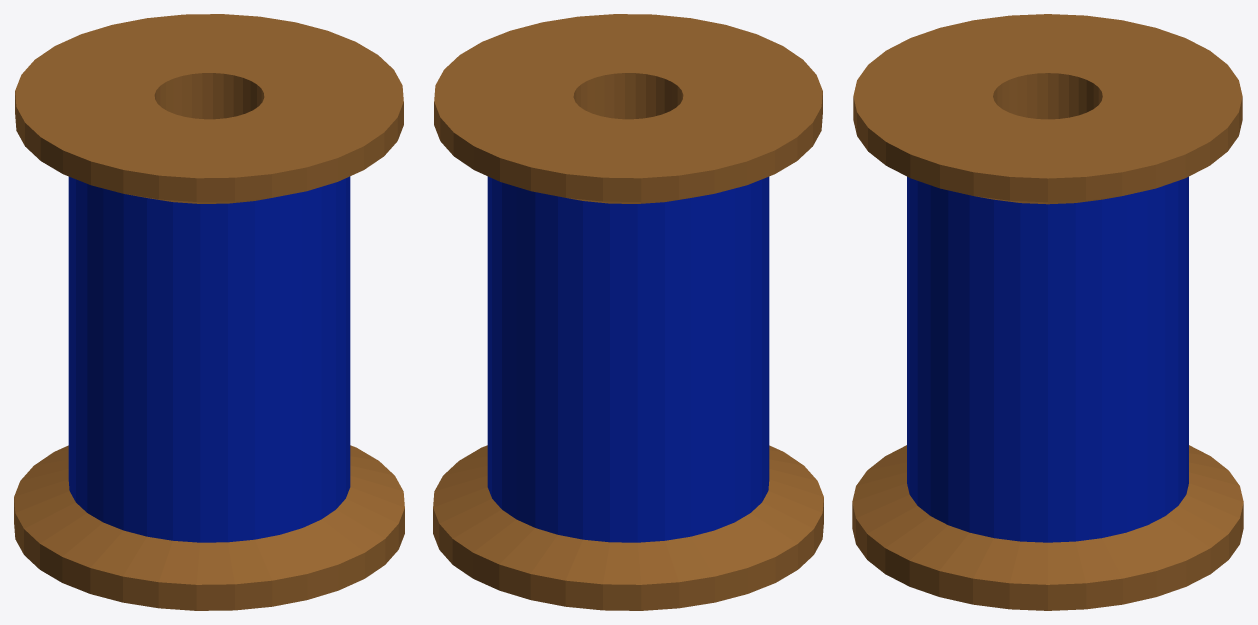
The model's file is sewing_thread_spool_asset.fbx.
The picture shows the model from 3 angles, left to right: view 1: azimuth 30°, elevation 25°; view 2: azimuth 150°, elevation 25°; view 3: azimuth 270°, elevation 25°; orthographic projection.
Parts seen in each view (by area): view 1: Circle; view 2: Circle; view 3: Circle.
Boxes of the visible parts, box(x1,y1,x2,y2) form: Circle: box(14, 14, 404, 610); Circle: box(433, 14, 823, 610); Circle: box(852, 14, 1243, 610).
Size of the model in its own units: 30 by 36.53 by 30.
